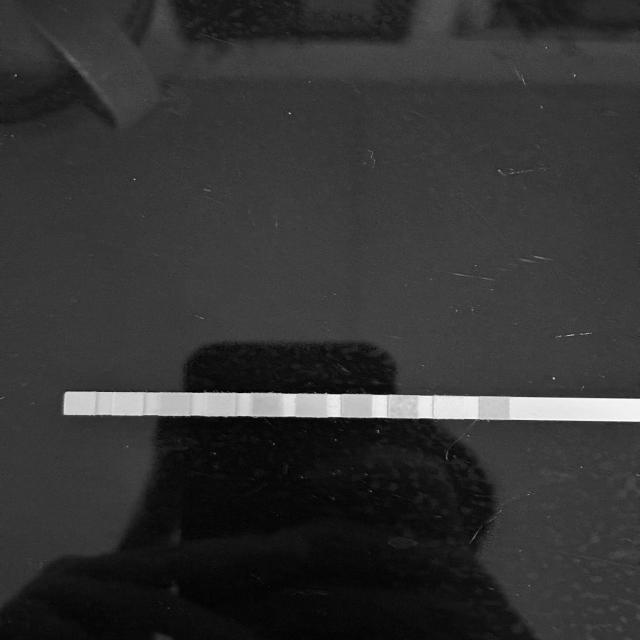Bilirubin: (435, 396, 463, 418)
Blood: (298, 394, 327, 416)
Glucose: (481, 397, 509, 419)
Ketone: (390, 396, 418, 418)
Leukocytes: (66, 392, 95, 414)
Nitrite: (115, 393, 144, 415)
Protein: (207, 394, 234, 416)
SpGravity: (343, 395, 372, 416)
Urobilinogen: (161, 393, 189, 415)
background: (0, 0, 640, 640)
pH: (253, 394, 281, 415)
strip: (63, 392, 639, 422)
